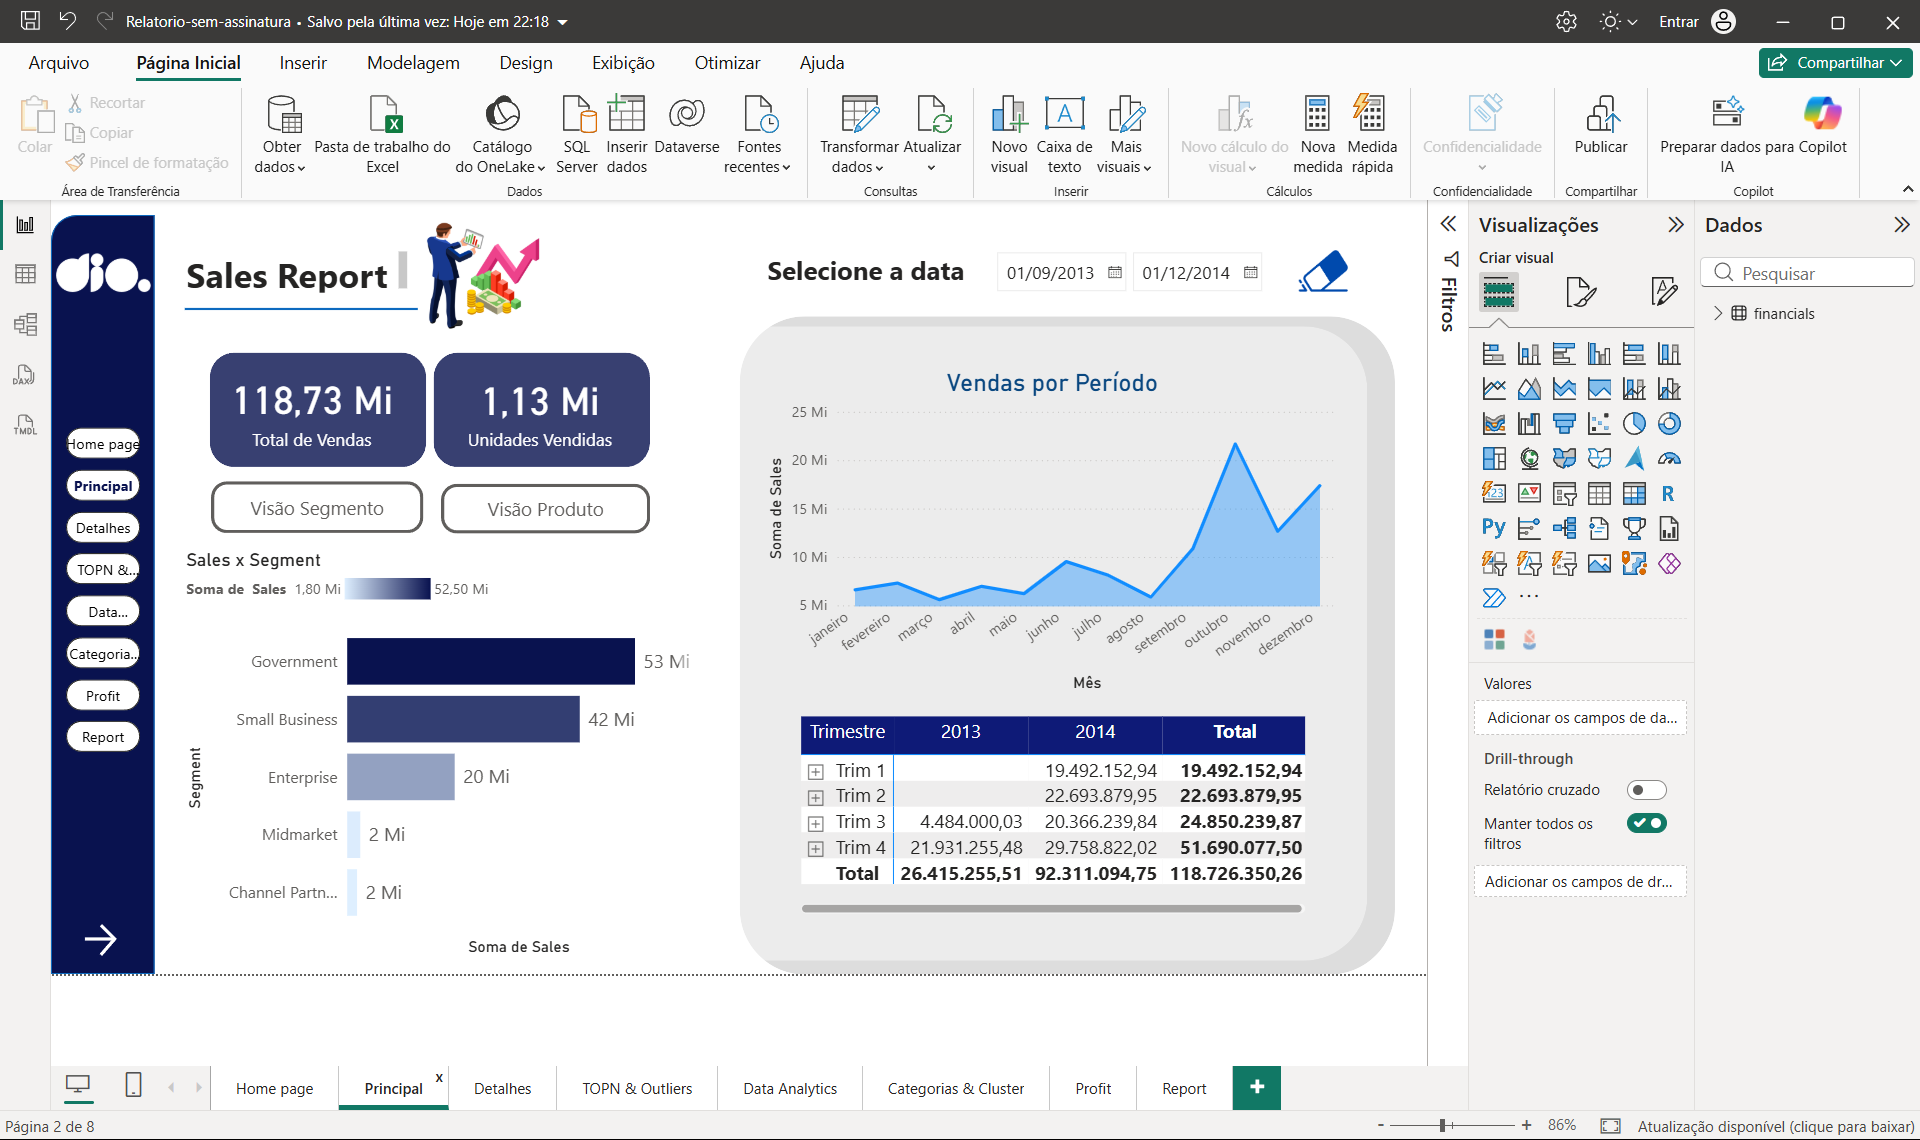

The page's visual inventory and layout, read from the dashboard file:
{"tool":"powerbi","page":{"name":"Principal","canvas":[1280,720],"ordinal":1},"visuals":[{"type":"group","id":"g1","title":"Layout","box":[0,-0.5,511.4,720],"z":0},{"type":"shape","box":[0,13.4,96.4,706.2],"z":0,"group":"g1"},{"type":"slicer","fields":{"Values":["financials.Date"]},"box":[867.2,38.7,272.2,55],"z":0,"group":"g3"},{"type":"shape","box":[123.8,84.5,217.2,33],"z":0,"group":"g4"},{"type":"shape","box":[147.2,142.2,201.4,106.8],"z":0,"group":"g2"},{"type":"areaChart","title":"Vendas por Período","fields":{"Category":["financials.Date.Variation.Hierarquia de datas.Ano","financials.Date.Variation.Hierarquia de datas.Mês"],"Y":["Sum(financials. Sales)"]},"box":[661.6,156.1,539.7,306.2],"z":0,"group":"g6"},{"type":"clusteredBarChart","title":"Sales x Segment","fields":{"Category":["financials.Segment"],"Y":["Sum(financials. Sales)"]},"box":[120.4,323.9,479.3,383],"z":0,"group":"g5"},{"type":"image","title":"logo_dio","box":[0,35.7,98.2,63.2],"z":1000,"group":"g1"},{"type":"textbox","box":[120.4,43.1,215.2,48.5],"z":1000,"group":"g4"},{"type":"textbox","box":[661.6,44.7,199.6,45.6],"z":1000,"group":"g3"},{"type":"shape","box":[355.9,142.2,201.4,106.8],"z":1000,"group":"g2"},{"type":"actionButton","title":"Botão - Next","box":[25.9,669,48.8,39.6],"z":1000},{"type":"image","box":[322.6,-0.5,188.8,141.2],"z":2000,"group":"g1"},{"type":"actionButton","box":[1153.4,43.3,59.9,51.3],"z":2000,"group":"g3"},{"type":"group","id":"g2","title":"Cartões","box":[147.2,141.2,410.3,107],"z":2000},{"type":"card","fields":{"Values":["Sum(financials. Sales)"]},"box":[161.1,141.2,162.6,106.9],"z":2000,"group":"g2"},{"type":"actionButton","title":"B-Segmento","box":[147.8,261.6,197.5,48.4],"z":2000,"group":"g5"},{"type":"group","id":"g3","title":"Filtro por data","box":[661.6,38.7,551.5,55],"z":3000},{"type":"image","title":"clean","box":[1153.4,39,59.9,55.6],"z":3000,"group":"g3"},{"type":"card","fields":{"Values":["Sum(financials.Units Sold)"]},"box":[375.8,145.4,156.5,98.6],"z":3000,"group":"g2"},{"type":"actionButton","title":"B-Produto","box":[362.2,264.3,194.6,46.3],"z":3000,"group":"g5"},{"type":"shape","box":[640.7,108.5,609.5,612.5],"z":4000},{"type":"group","id":"g4","title":"Title report","box":[120.4,43.1,221.5,74.3],"z":5000},{"type":"group","id":"g5","title":"Grupo 1","box":[120.4,261.6,478.7,446],"z":6000},{"type":"shape","box":[584.3,117.4,640.7,590.2],"z":7000},{"type":"group","id":"g6","title":"Perspectiva temporal das vendas","box":[661.6,156.1,539.7,306.2],"z":8000},{"type":"pivotTable","fields":{"Columns":["financials.Date.Variation.Hierarquia de datas.Ano"],"Rows":["financials.Date.Variation.Hierarquia de datas.Trimestre","financials.Date.Variation.Hierarquia de datas.Mês"],"Values":["Sum(financials. Sales)"]},"box":[692.8,475.7,478.7,193.3],"z":9000},{"type":"pageNavigator","box":[13.4,211.1,69.9,306.2],"z":10000}]}

Visuals, with their boxes on the page's 1280x720 design canvas (x1, y1, x2, y2). These are canvas units, not pixel positions in the 1920x1140 screenshot, which may show the page scaled, cropped or inside an application window:
"Layout" group: pyautogui.locateOnScreen(0, 0, 511, 720)
shape: pyautogui.locateOnScreen(0, 13, 96, 720)
slicer - financials.Date: pyautogui.locateOnScreen(867, 39, 1139, 94)
shape: pyautogui.locateOnScreen(124, 84, 341, 118)
shape: pyautogui.locateOnScreen(147, 142, 349, 249)
"Vendas por Período" areaChart: pyautogui.locateOnScreen(662, 156, 1201, 462)
"Sales x Segment" clusteredBarChart: pyautogui.locateOnScreen(120, 324, 600, 707)
"logo_dio" image: pyautogui.locateOnScreen(0, 36, 98, 99)
textbox: pyautogui.locateOnScreen(120, 43, 336, 92)
textbox: pyautogui.locateOnScreen(662, 45, 861, 90)
shape: pyautogui.locateOnScreen(356, 142, 557, 249)
"Botão - Next" actionButton: pyautogui.locateOnScreen(26, 669, 75, 709)
image: pyautogui.locateOnScreen(323, 0, 511, 141)
actionButton: pyautogui.locateOnScreen(1153, 43, 1213, 95)
"Cartões" group: pyautogui.locateOnScreen(147, 141, 558, 248)
card - Sum(financials. Sales): pyautogui.locateOnScreen(161, 141, 324, 248)
"B-Segmento" actionButton: pyautogui.locateOnScreen(148, 262, 345, 310)
"Filtro por data" group: pyautogui.locateOnScreen(662, 39, 1213, 94)
"clean" image: pyautogui.locateOnScreen(1153, 39, 1213, 95)
card - Sum(financials.Units Sold): pyautogui.locateOnScreen(376, 145, 532, 244)
"B-Produto" actionButton: pyautogui.locateOnScreen(362, 264, 557, 311)
shape: pyautogui.locateOnScreen(641, 108, 1250, 721)
"Title report" group: pyautogui.locateOnScreen(120, 43, 342, 117)
"Grupo 1" group: pyautogui.locateOnScreen(120, 262, 599, 708)
shape: pyautogui.locateOnScreen(584, 117, 1225, 708)
"Perspectiva temporal das vendas" group: pyautogui.locateOnScreen(662, 156, 1201, 462)
pivotTable - financials.Date.Variation.Hierarquia de datas.Ano x financials.Date.Variation.Hierarquia de datas.Trimestre: pyautogui.locateOnScreen(693, 476, 1172, 669)
pageNavigator: pyautogui.locateOnScreen(13, 211, 83, 517)
